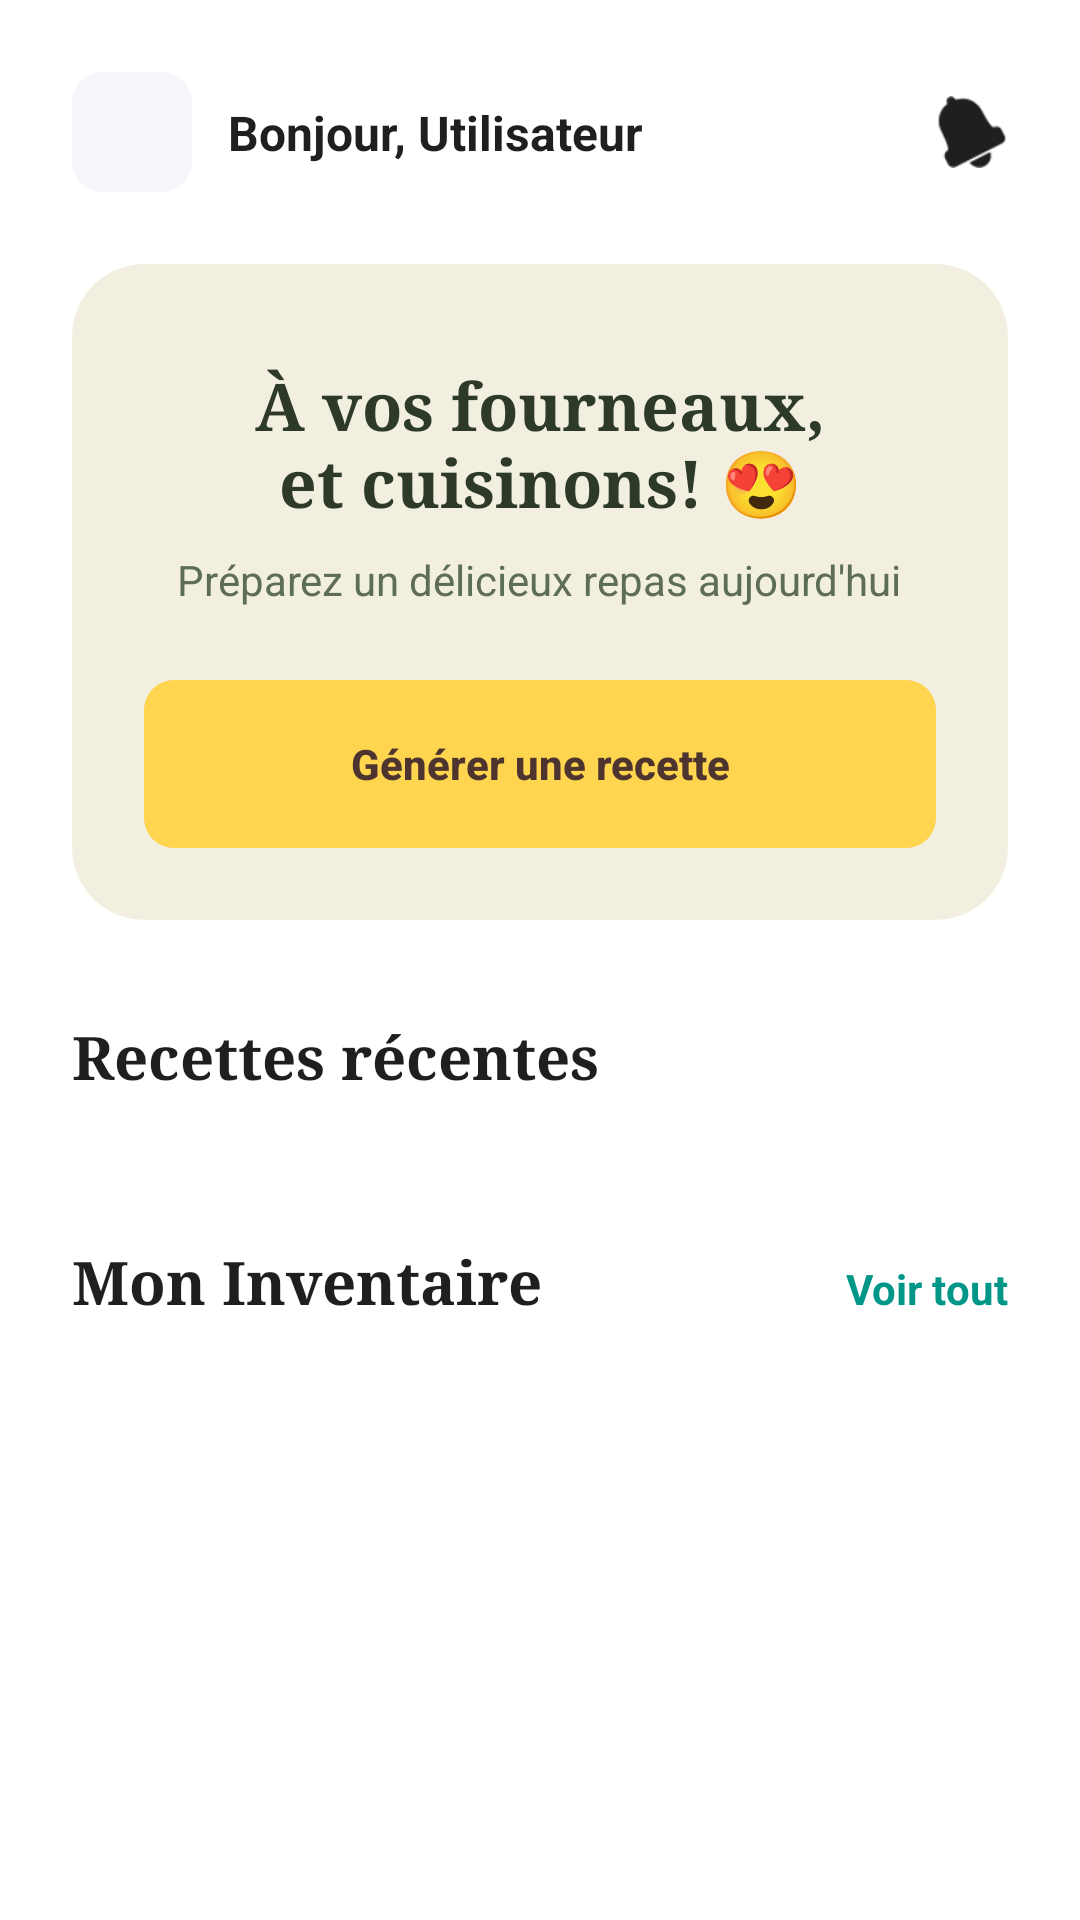

Icon click points for this 1080px×1920px phone screenshot, format (x=x, y=y):
popup reminder: (x=972, y=132)
